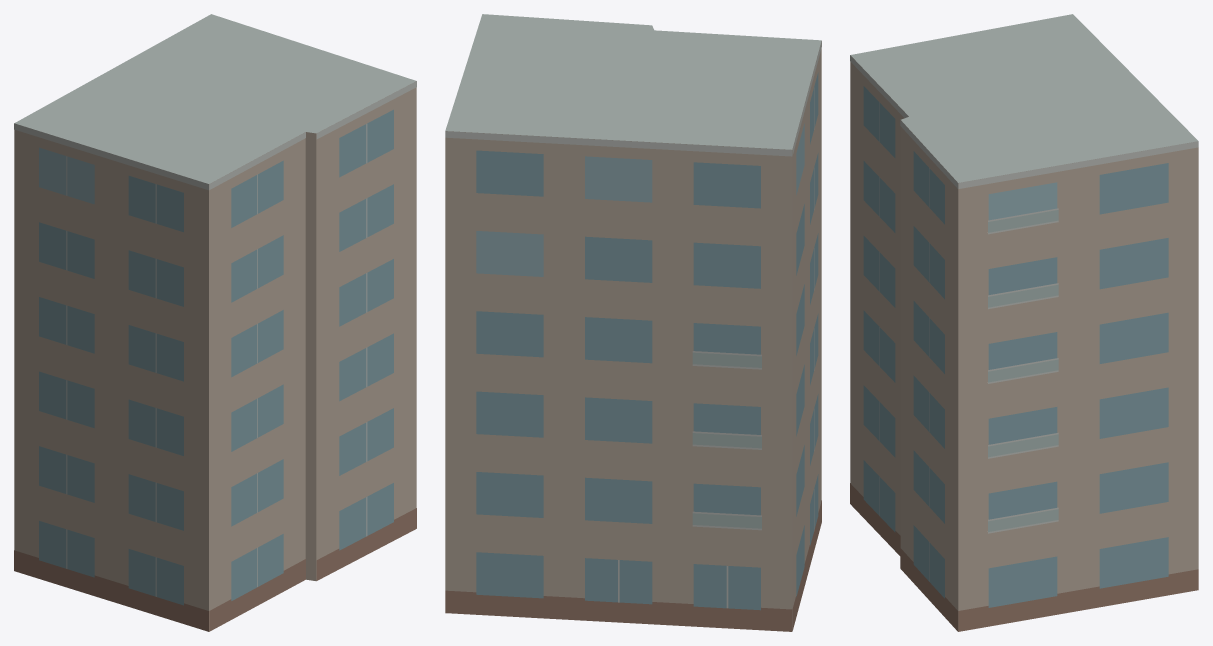
The model's file is survey-upis-32860473.glb.
3 views of the same model, side by side, from view 1: azimuth 30°, elevation 25°; view 2: azimuth 150°, elevation 25°; view 3: azimuth 270°, elevation 25° (orthographic). The views are drawn at different scales.
Parts seen in each view (by area): view 1: survey-upis-32860473.tmp; view 2: survey-upis-32860473.tmp; view 3: survey-upis-32860473.tmp.
Part boxes in pixels (x1,y1,x2,y2): survey-upis-32860473.tmp: (14, 14, 416, 631); survey-upis-32860473.tmp: (445, 14, 821, 631); survey-upis-32860473.tmp: (850, 14, 1198, 631).
Size of the model in its own units: 14.13 by 17.5 by 12.32.
